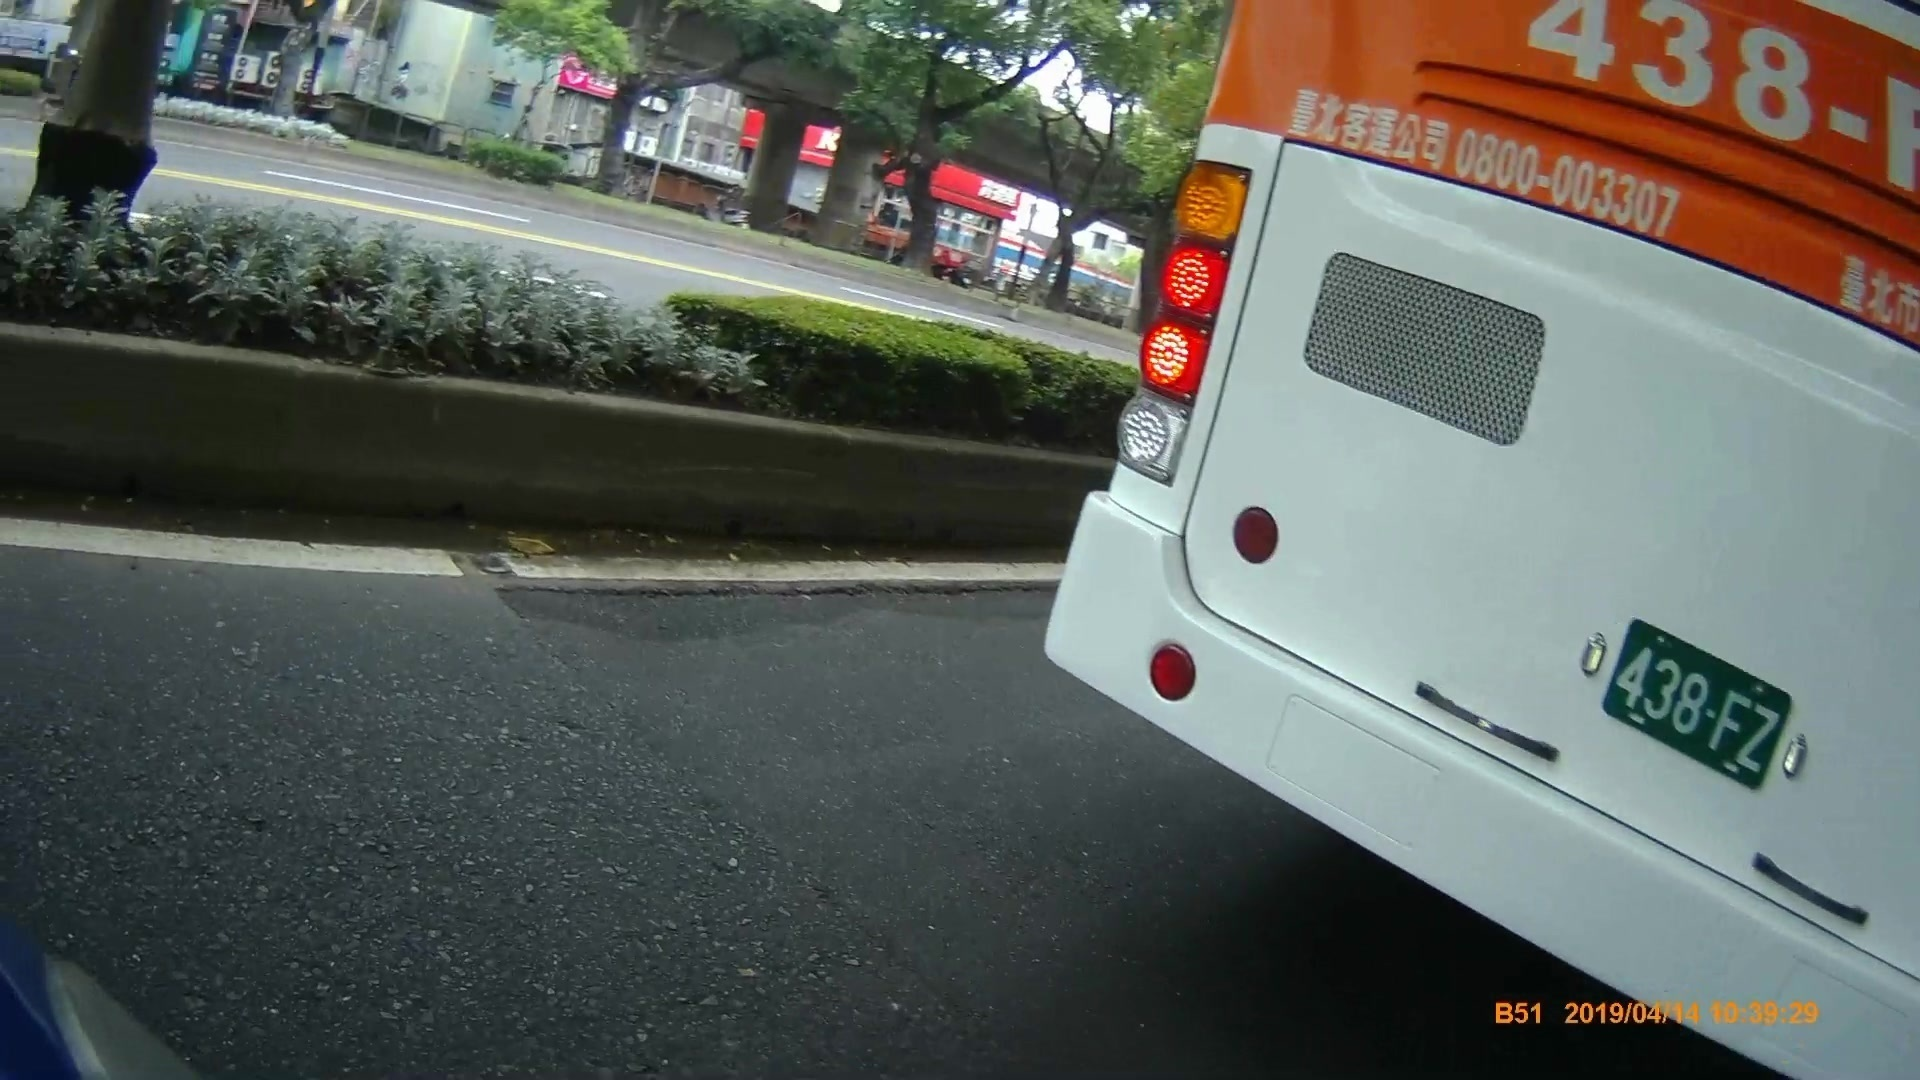License_plate: (1606, 612, 1797, 796)
